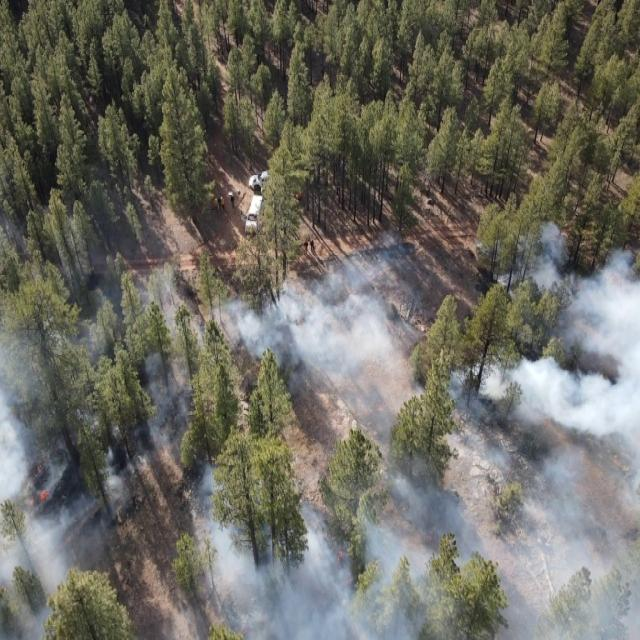fire: (20, 463, 54, 513), (334, 544, 358, 590)
smoke: (0, 221, 640, 640)
